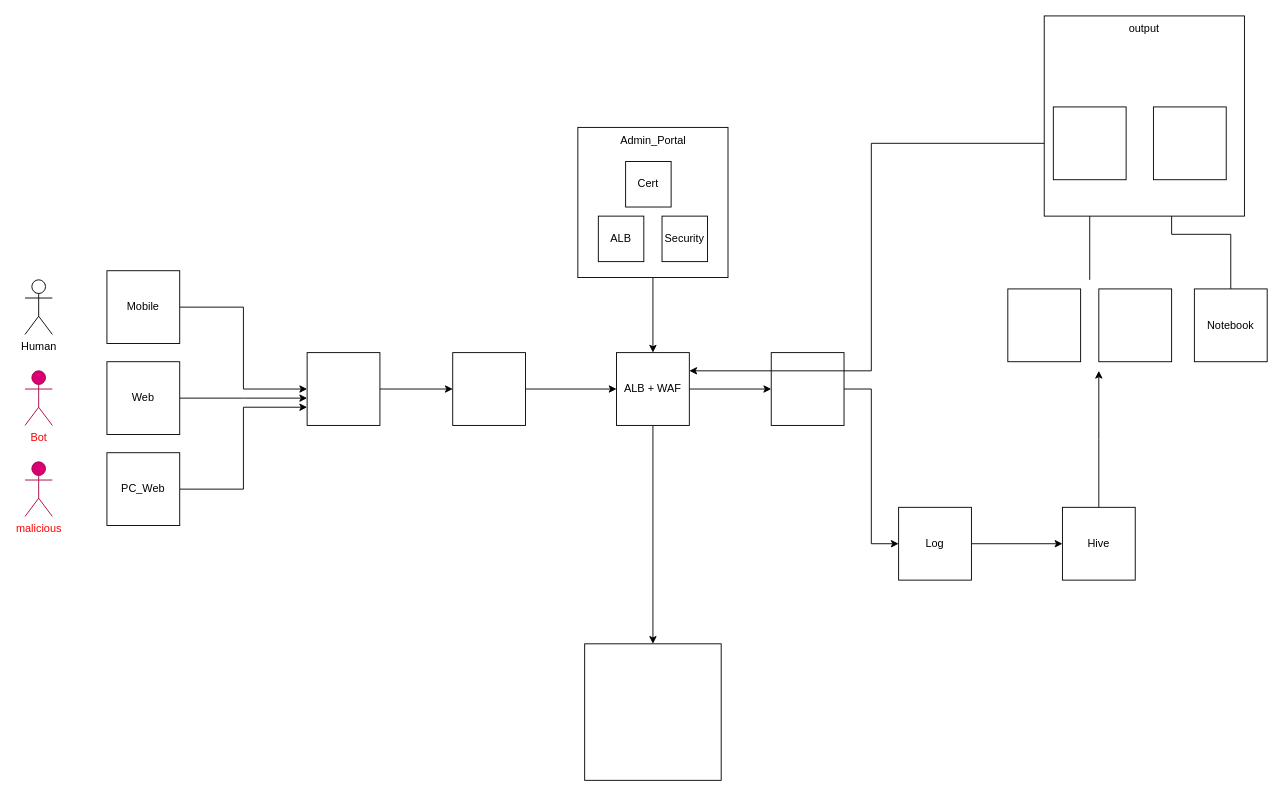
Some shapes in this 1283 by 796 pixel diagram are drawn without their labels. Each missing label, with the centre of its shape:
"APP Services On K8s" goes at point (652, 711).
"DNS / DoH" goes at point (343, 388).
"Kafak" goes at point (807, 388).
"List" goes at point (1089, 143).
"Model" goes at point (1189, 143).
"NLB" goes at point (489, 388).
"Presto" goes at point (1044, 325).
"spark" goes at point (1135, 325).
